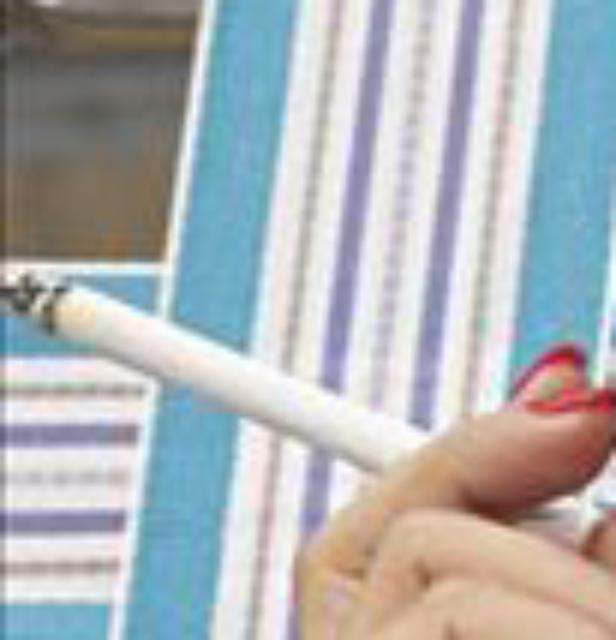Cigarette: (0, 258, 586, 550)
